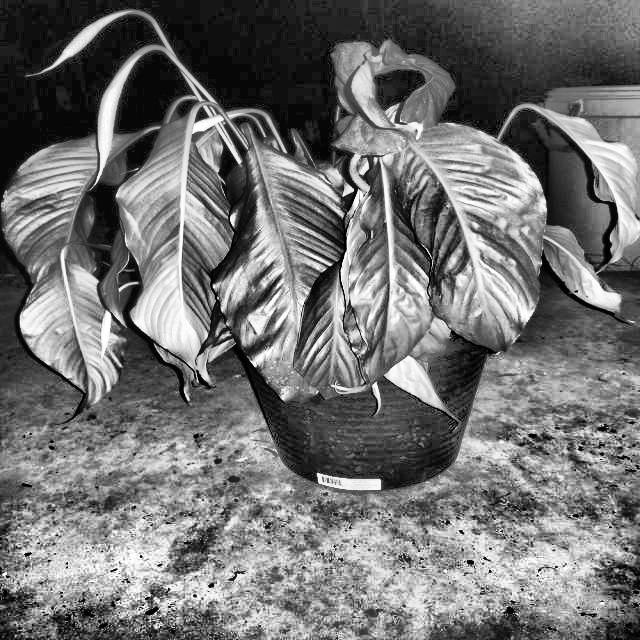plants: (22, 89, 640, 502)
